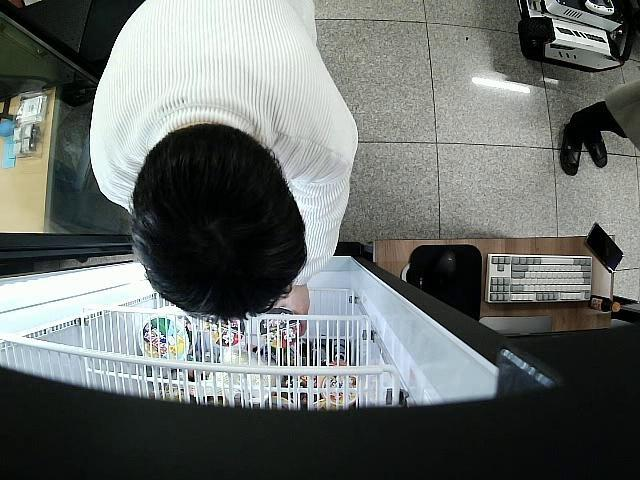08_buldak_S: (259, 306, 300, 349)
